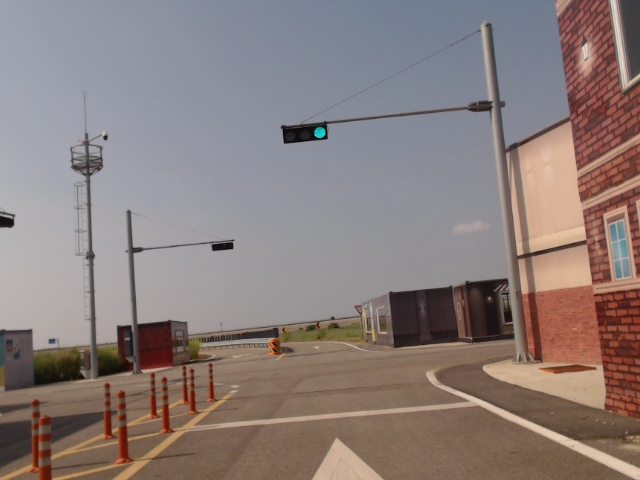green_3: (282, 123, 329, 146)
